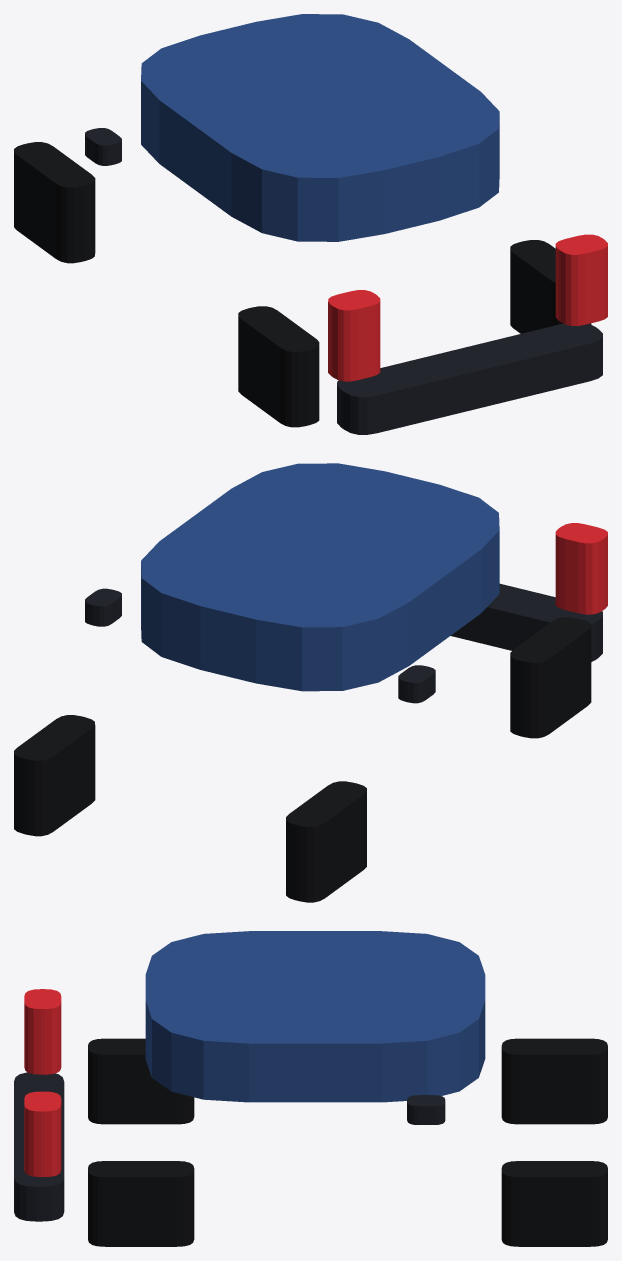
Rendered from car_parts.glb.
The picture shows the model from 3 angles, top to bottom: view 1: azimuth 30°, elevation 25°; view 2: azimuth 150°, elevation 25°; view 3: azimuth 270°, elevation 25°; orthographic projection. The views are drawn at different scales.
Bounding box in the file's own units: 2.44 × 1.42 × 4.02.
